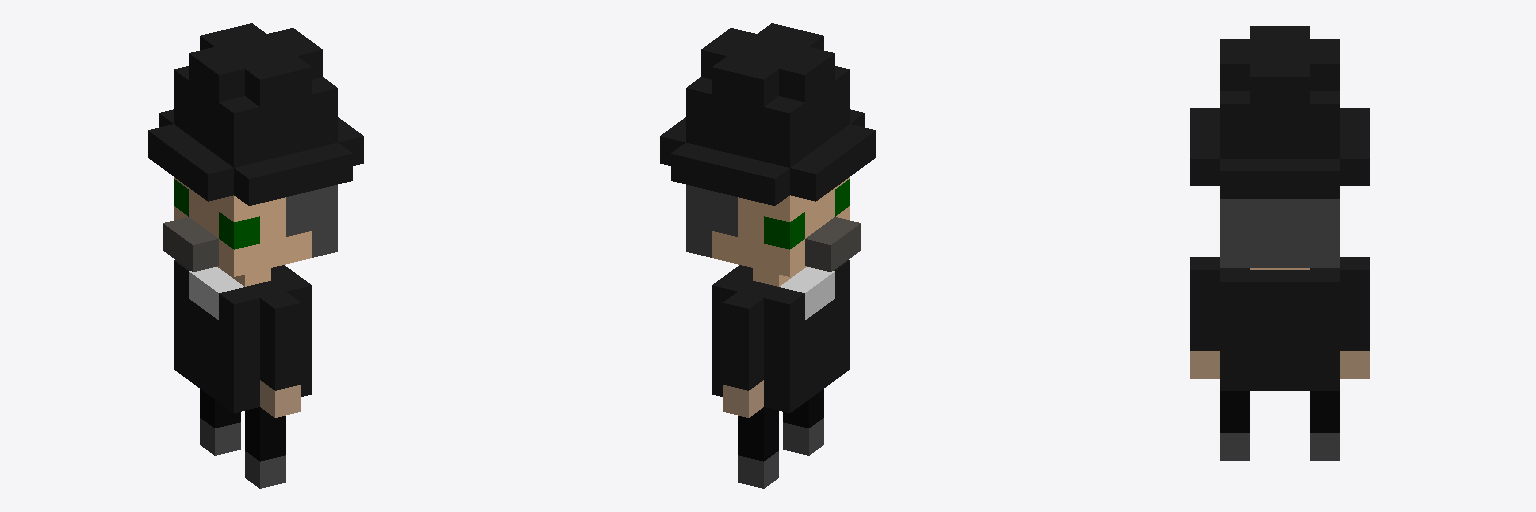
3 views of the same model, side by side, from view 1: azimuth 30°, elevation 25°; view 2: azimuth 150°, elevation 25°; view 3: azimuth 270°, elevation 25° (orthographic).
Visible parts, largest first — view 1: human5; view 2: human5; view 3: human5.
Boxes of the visible parts, x1,y1,x2,y2 form: human5: [148, 23, 363, 488]; human5: [660, 23, 875, 488]; human5: [1190, 26, 1369, 460].
Size of the model in its own units: 0.6 by 1.5 by 0.6.
1 materials, 1 textured.